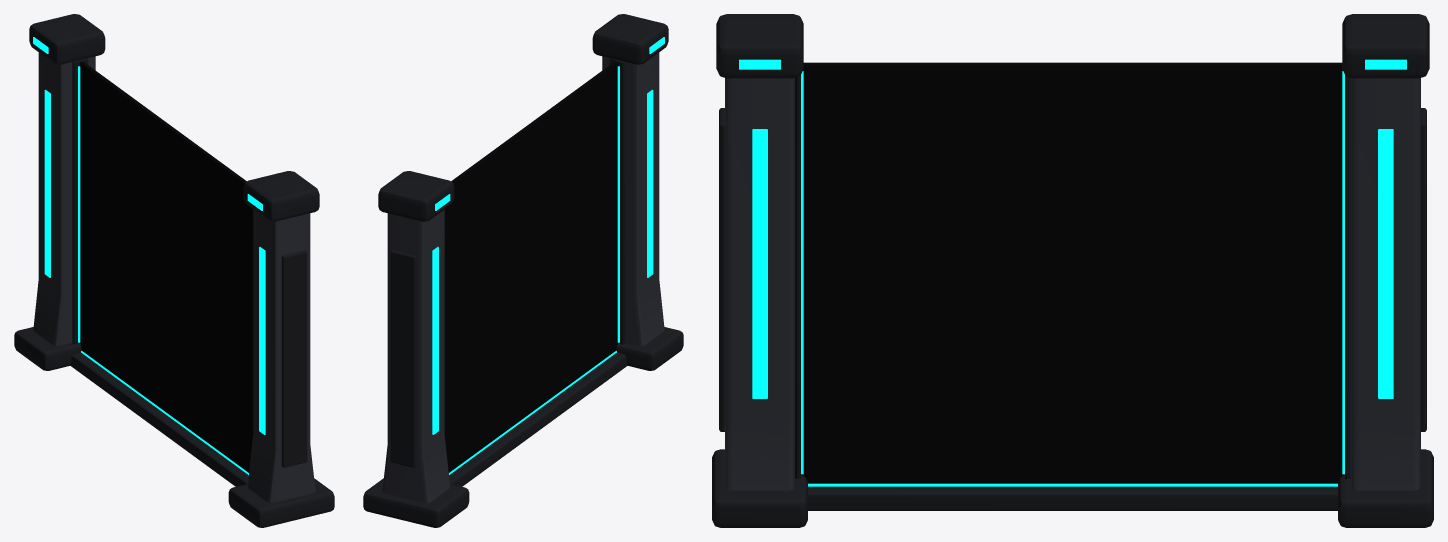
Rendered from Firewall.fbx.
The picture shows the model from 3 angles, left to right: view 1: azimuth 30°, elevation 25°; view 2: azimuth 150°, elevation 25°; view 3: azimuth 270°, elevation 25°; orthographic projection. The views are drawn at different scales.
Parts seen in each view (by area): view 1: Panel_Energy, Frame_Dark, Frame_Shell, Frame_Energy; view 2: Panel_Energy, Frame_Dark, Frame_Shell, Frame_Energy; view 3: Panel_Energy, Frame_Shell, Frame_Dark, Frame_Energy.
Part boxes in pixels (box(x1,y1,x2,y2)): Panel_Energy: box(79, 61, 253, 472); Frame_Dark: box(14, 14, 334, 527); Frame_Shell: box(33, 52, 315, 502); Frame_Energy: box(33, 37, 265, 474); Panel_Energy: box(444, 61, 618, 472); Frame_Dark: box(363, 14, 683, 527); Frame_Shell: box(382, 52, 664, 502); Frame_Energy: box(432, 37, 664, 474); Panel_Energy: box(801, 62, 1344, 483); Frame_Shell: box(725, 78, 1420, 490); Frame_Dark: box(712, 14, 1433, 527); Frame_Energy: box(739, 59, 1406, 486).
Bounding box in the file's own units: 1.5 × 6 × 8.26.
